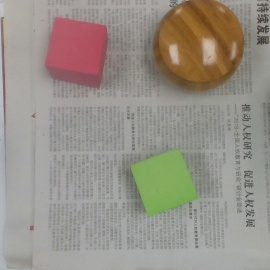chess: (154, 1, 244, 90)
